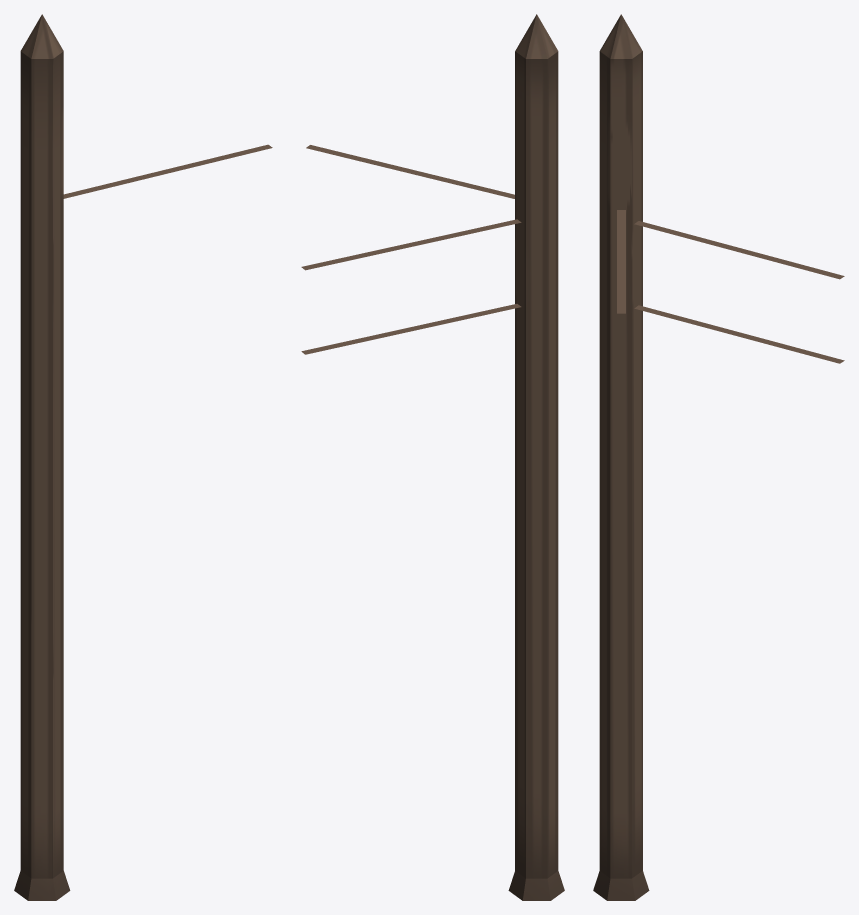
File: SignsPost.fbx
3 renders of one model, left to right at view 1: azimuth 30°, elevation 25°; view 2: azimuth 150°, elevation 25°; view 3: azimuth 270°, elevation 25°, orthographic.
Visible parts, largest first — view 1: SignPost; view 2: SignPost; view 3: SignPost.
Part boxes in pixels (left/top/right/bottom): SignPost: left=14, top=14, right=272, bottom=900; SignPost: left=301, top=14, right=564, bottom=900; SignPost: left=593, top=14, right=844, bottom=900.
Bounding box in the file's own units: 4.46 × 14.95 × 3.89.
